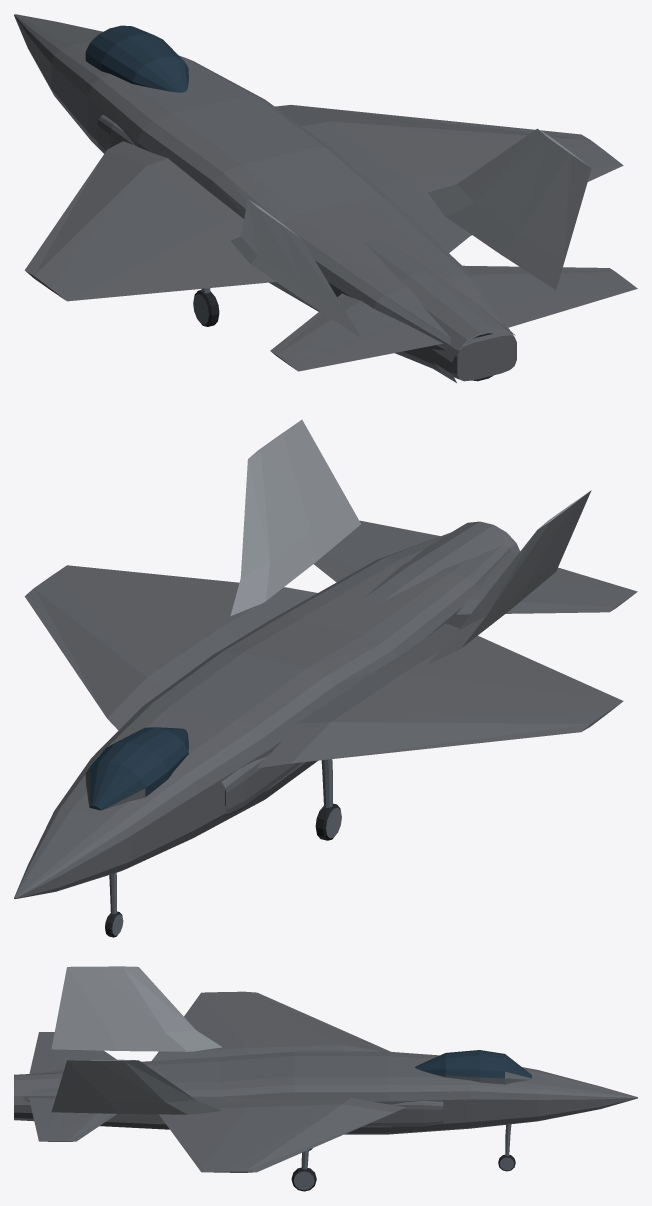
The picture shows the model from 3 angles, top to bottom: view 1: azimuth 30°, elevation 25°; view 2: azimuth 150°, elevation 25°; view 3: azimuth 270°, elevation 25°; orthographic projection. The views are drawn at different scales.
Visible parts, largest first — view 1: airframe, gear; view 2: airframe, gear; view 3: airframe, gear.
Part boxes in pixels (box(x1,y1,x2,y2)): airframe: box(14, 14, 637, 382); gear: box(193, 288, 219, 326); airframe: box(14, 419, 637, 898); gear: box(105, 759, 341, 937); airframe: box(14, 966, 637, 1172); gear: box(291, 1124, 515, 1191).
Bounding box in the file's own units: 10.67 × 4.35 × 15.67.
